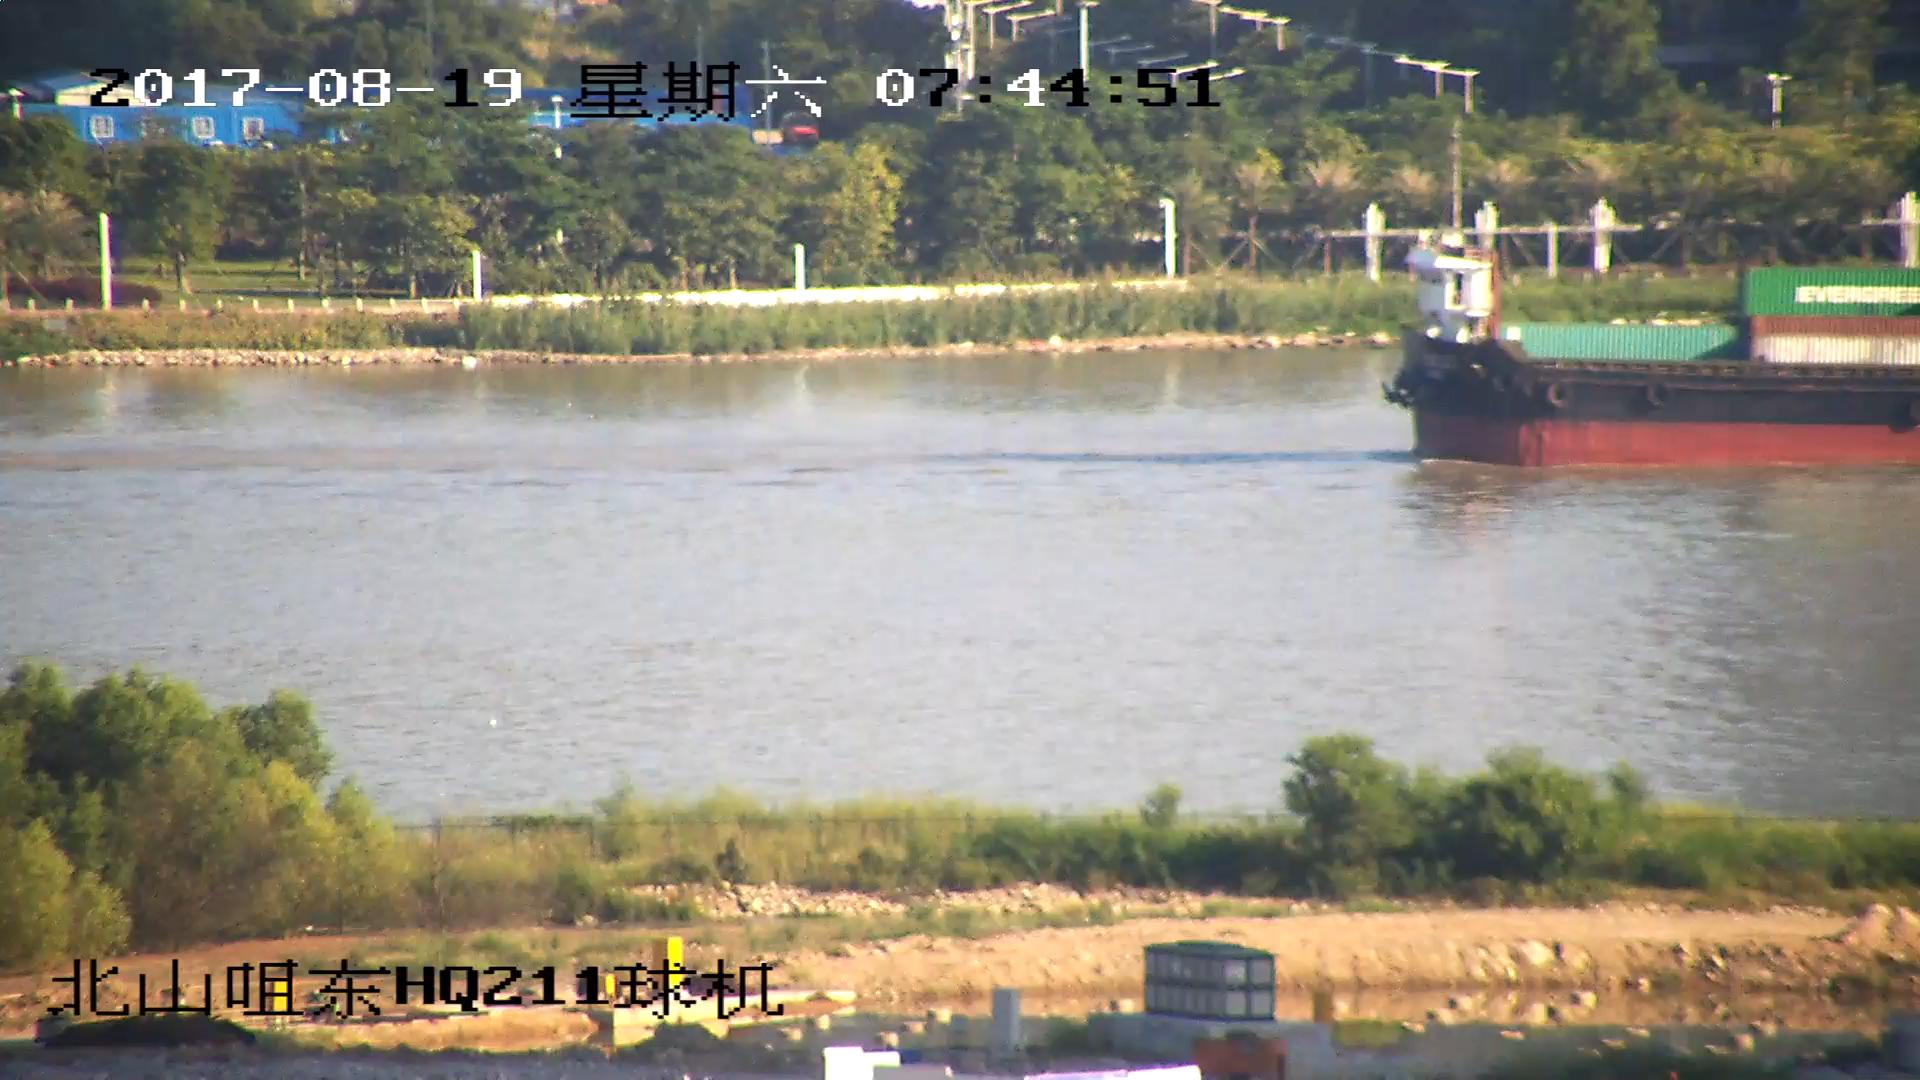container ship: (1395, 227, 1920, 462)
